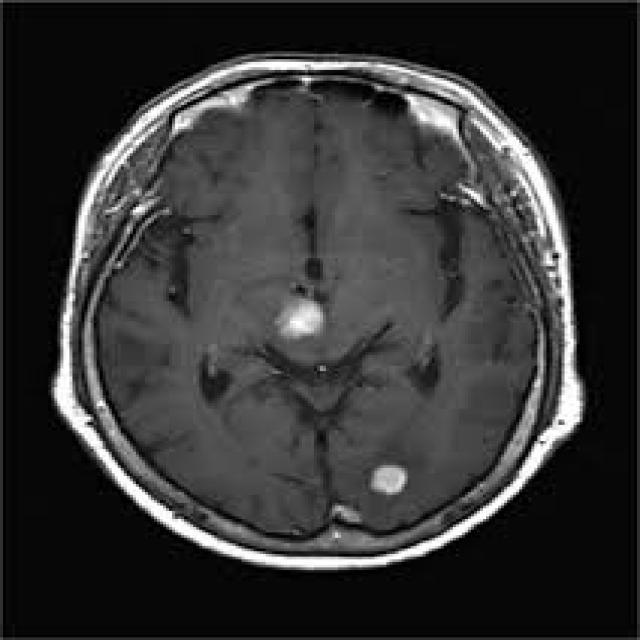notumor: (48, 54, 583, 575)
